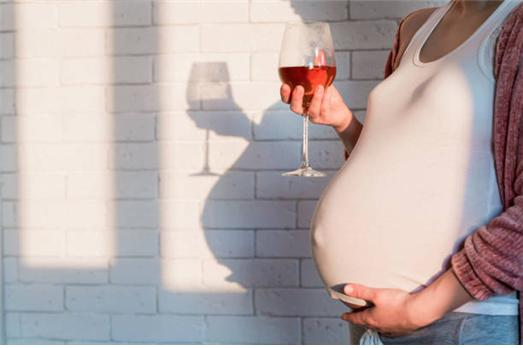alcohol: (277, 21, 337, 180)
